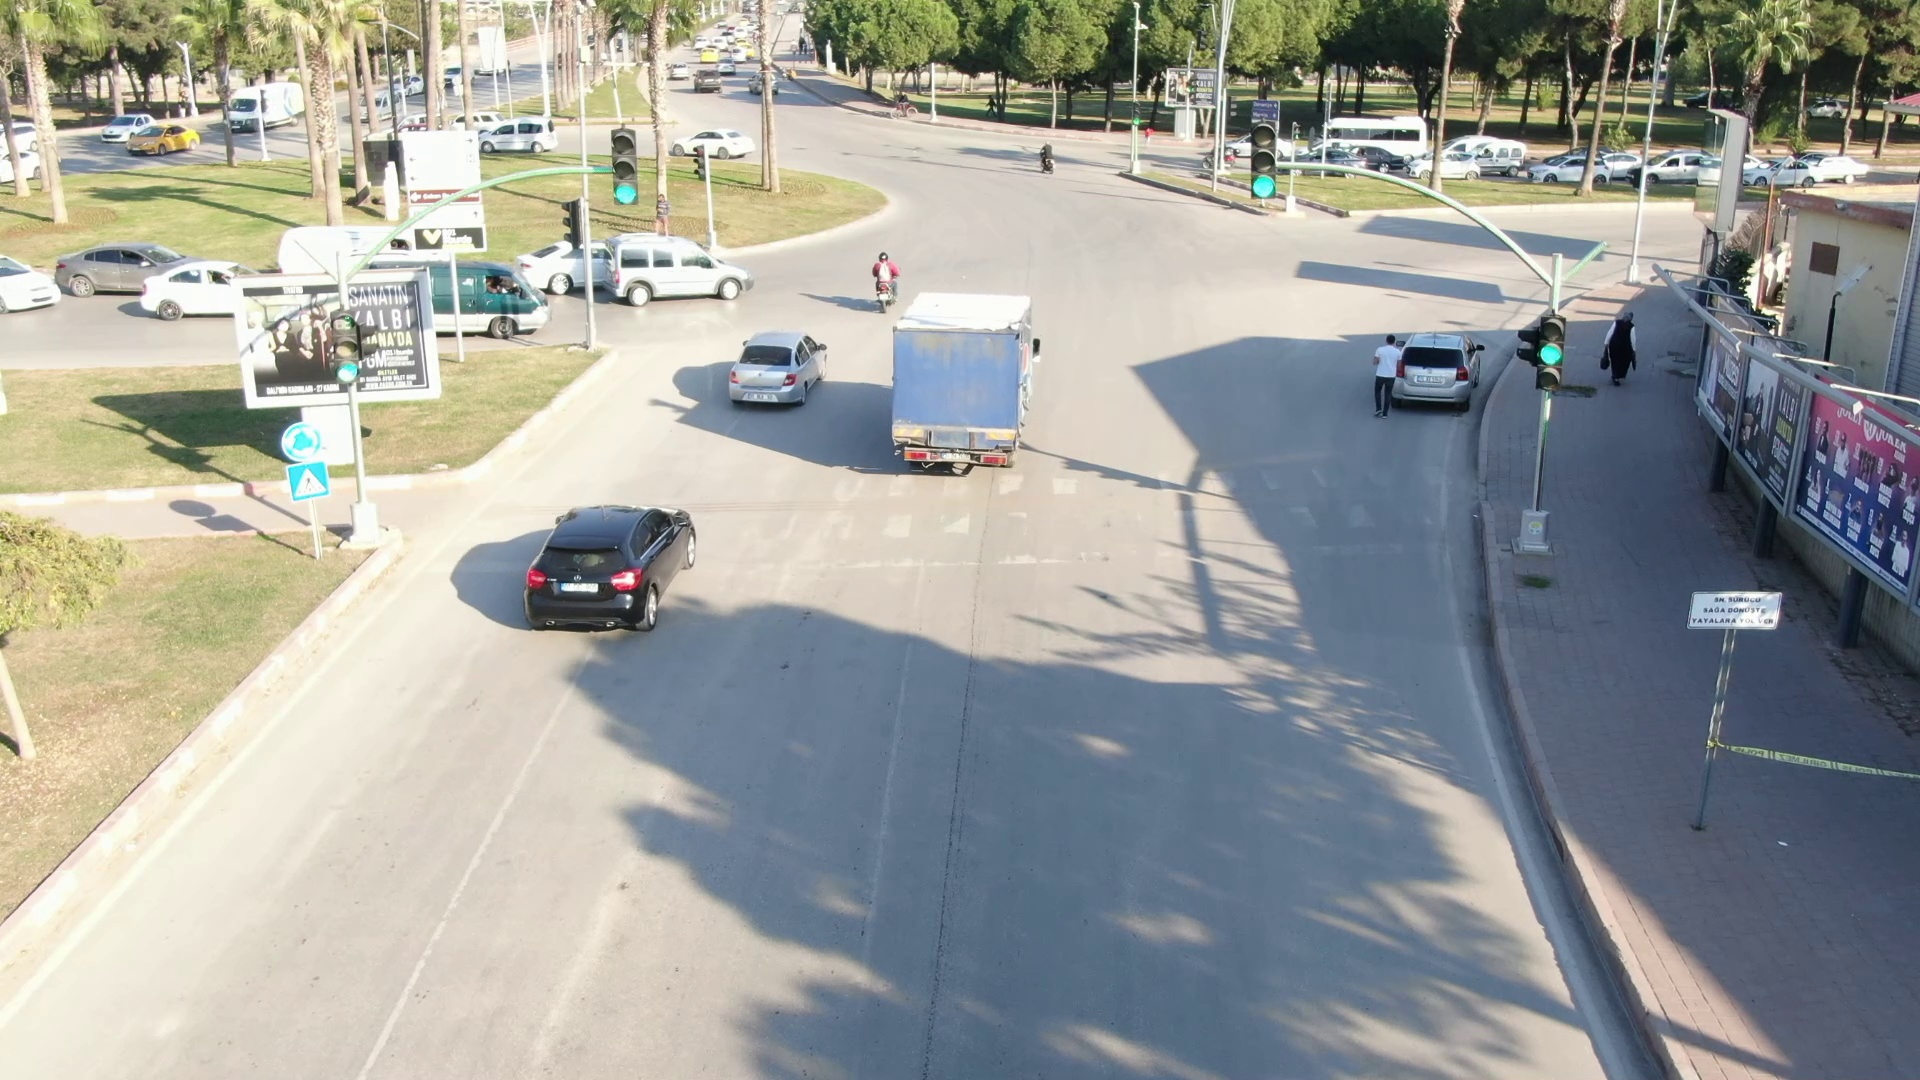car: (518, 478, 708, 656), (599, 223, 766, 316), (53, 230, 194, 321), (432, 253, 561, 346), (718, 317, 833, 414), (88, 93, 210, 167), (654, 112, 784, 174), (469, 104, 571, 158)
person: (1597, 303, 1642, 391), (1365, 327, 1410, 415)
